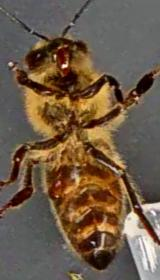varroa_mite: (40, 171, 70, 202)
